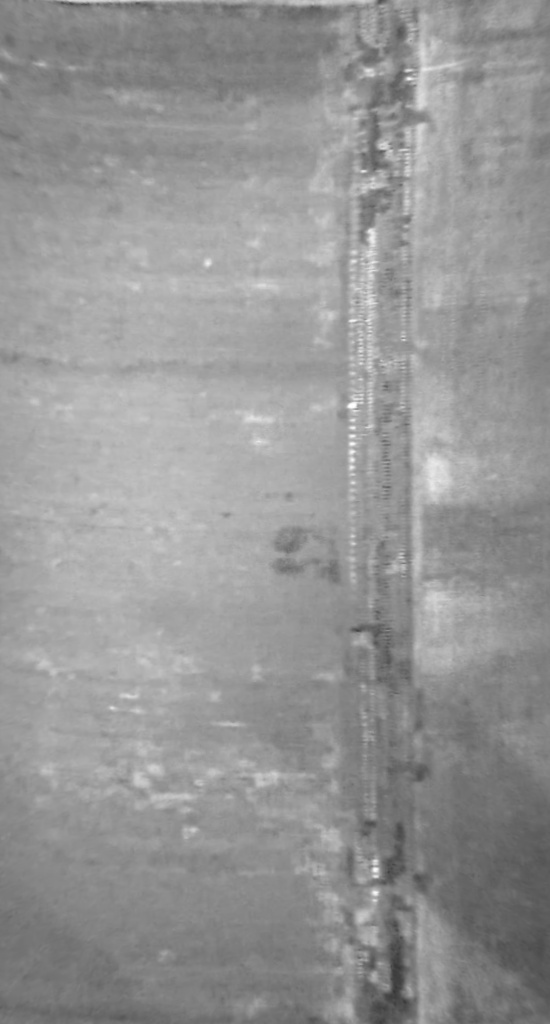splice: (327, 1, 430, 1022)
